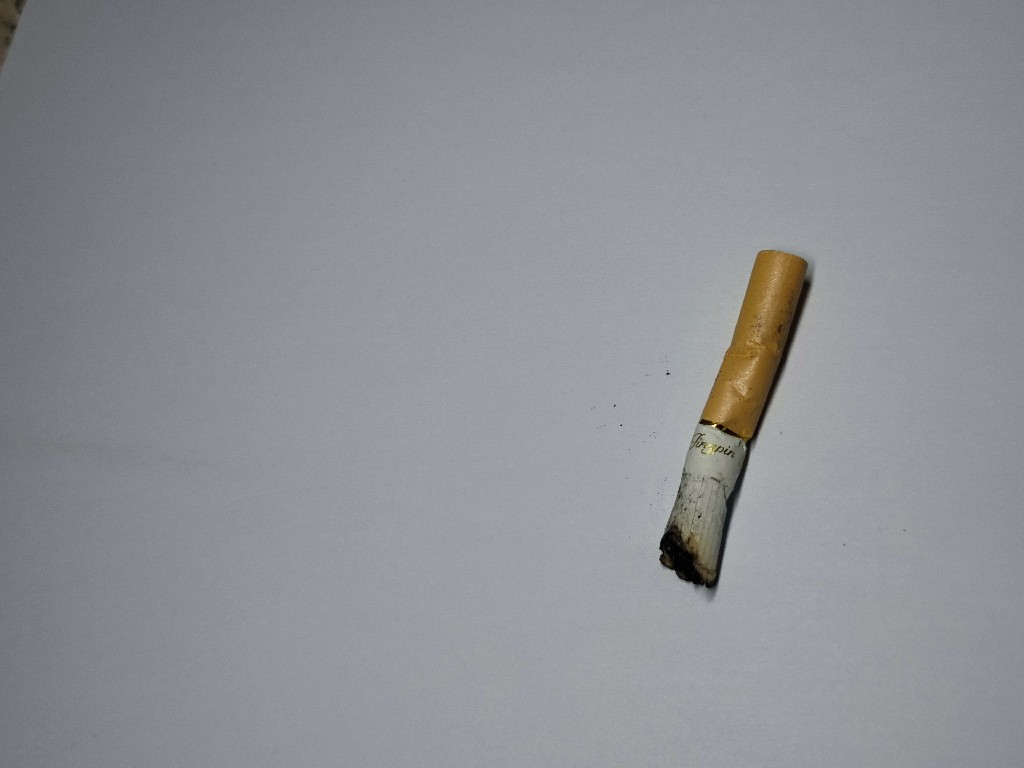cigarette: (656, 245, 813, 593)
